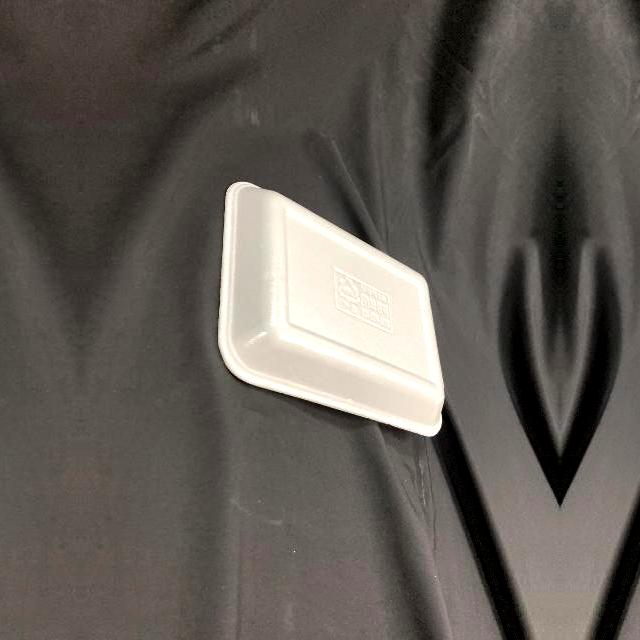Styrofoam: (218, 181, 447, 437), (217, 182, 444, 436)
